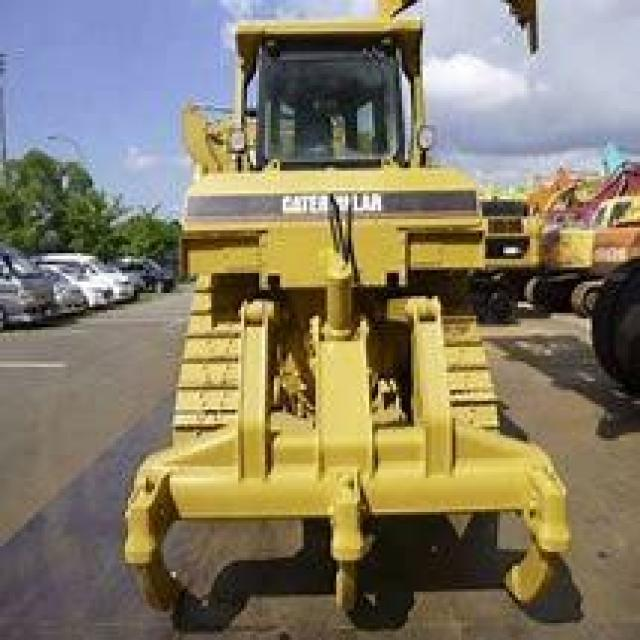Bulldozer: (110, 8, 584, 614)
